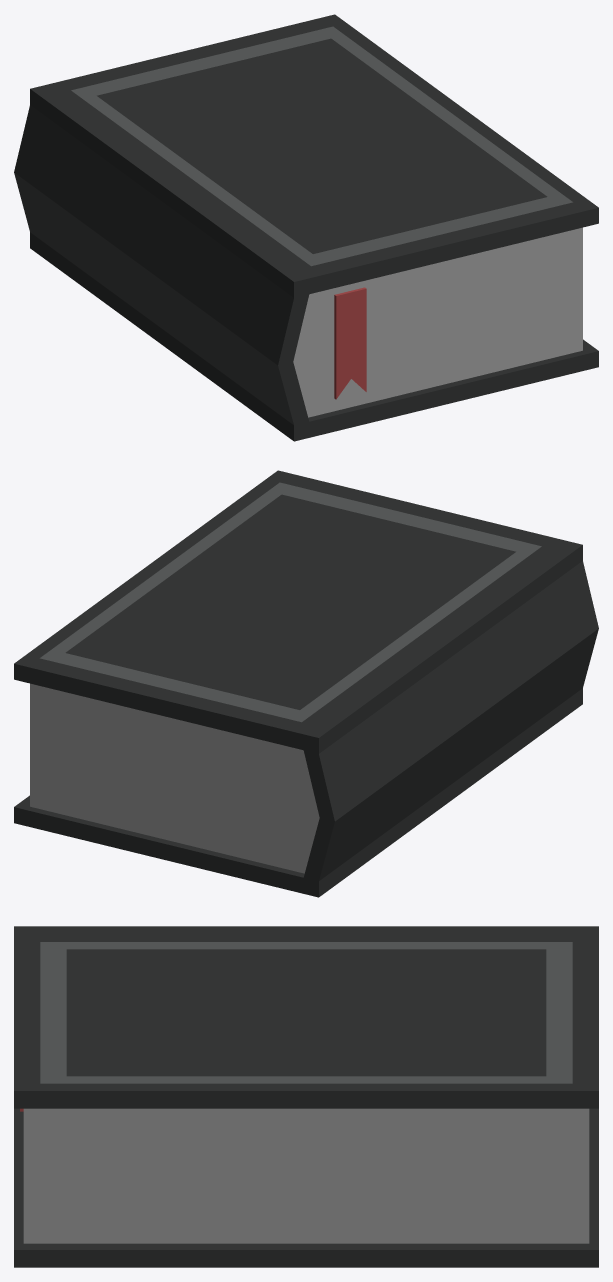
Rendered from Book_1_Black.fbx.
The picture shows the model from 3 angles, top to bottom: view 1: azimuth 30°, elevation 25°; view 2: azimuth 150°, elevation 25°; view 3: azimuth 270°, elevation 25°; orthographic projection. The views are drawn at different scales.
Parts seen in each view (by area): view 1: Book_1_Black_Part_1, Book_1_Black_Part_3, Book_1_Black_Part_2, Book_1_Black_Part_4; view 2: Book_1_Black_Part_1, Book_1_Black_Part_3, Book_1_Black_Part_2; view 3: Book_1_Black_Part_1, Book_1_Black_Part_3, Book_1_Black_Part_2.
Boxes of the visible parts, x1=… form: Book_1_Black_Part_1: x1=14, y1=14, x2=598, y2=441; Book_1_Black_Part_3: x1=293, y1=227, x2=582, y2=417; Book_1_Black_Part_2: x1=71, y1=26, x2=572, y2=266; Book_1_Black_Part_4: x1=334, y1=287, x2=366, y2=399; Book_1_Black_Part_1: x1=14, y1=470, x2=598, y2=897; Book_1_Black_Part_3: x1=30, y1=683, x2=319, y2=873; Book_1_Black_Part_2: x1=40, y1=482, x2=541, y2=722; Book_1_Black_Part_1: x1=14, y1=926, x2=598, y2=1267; Book_1_Black_Part_3: x1=23, y1=1108, x2=589, y2=1243; Book_1_Black_Part_2: x1=40, y1=942, x2=572, y2=1083.
Size of the model in its own units: 21.06 by 10 by 30.
